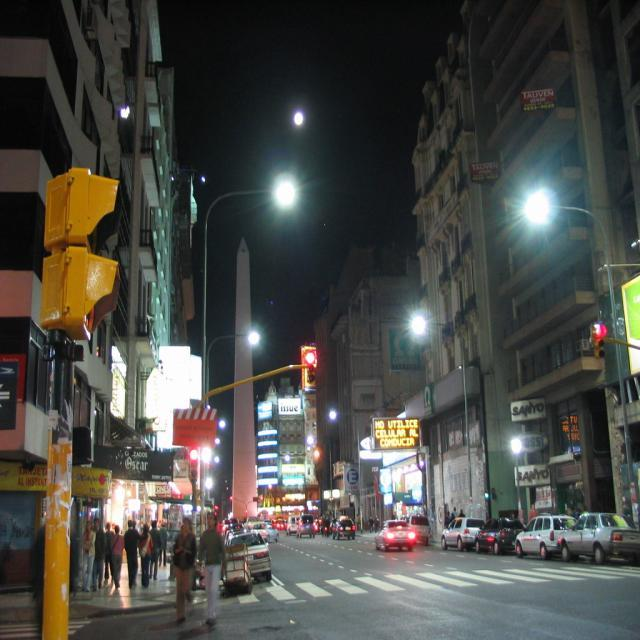off traffic light: (39, 167, 127, 343)
traffic light: (303, 347, 318, 388)
